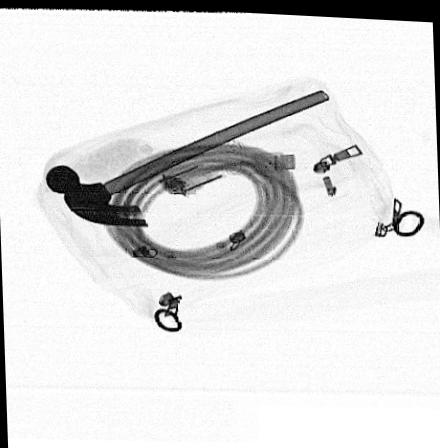Hammer: (44, 85, 331, 225)
